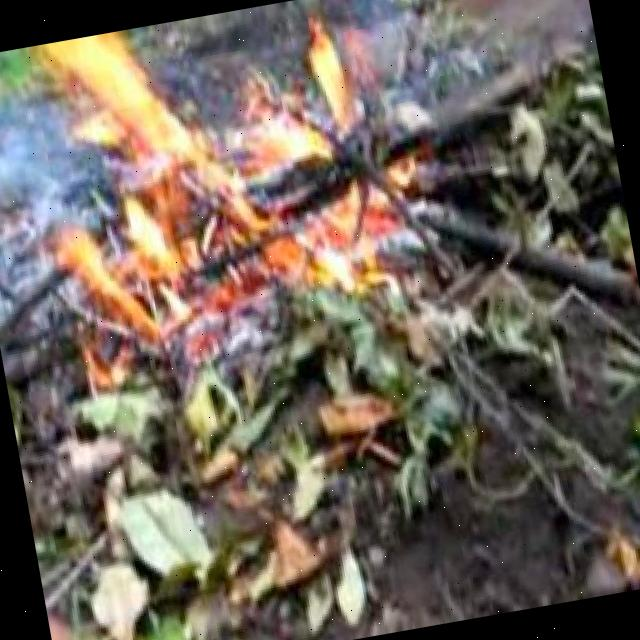fire: (35, 16, 296, 365), (208, 32, 374, 276)
